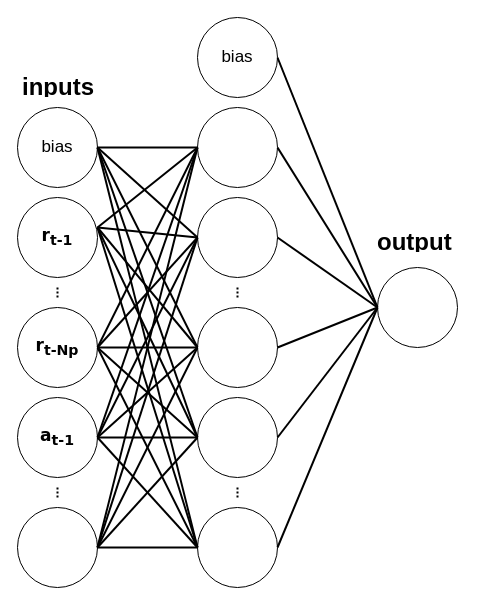
This 480x605 diagram has some shape labels left out. Here are the shapes that lost their labels. From the top down, the centre of each, then its label:
the point at 417,307: r t
the point at 57,547: a t-Nq
